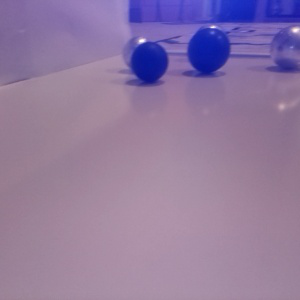alive_ball: (270, 24, 300, 68), (123, 36, 154, 70), (196, 24, 226, 57)
dead_ball: (186, 28, 230, 72), (131, 41, 168, 81)
